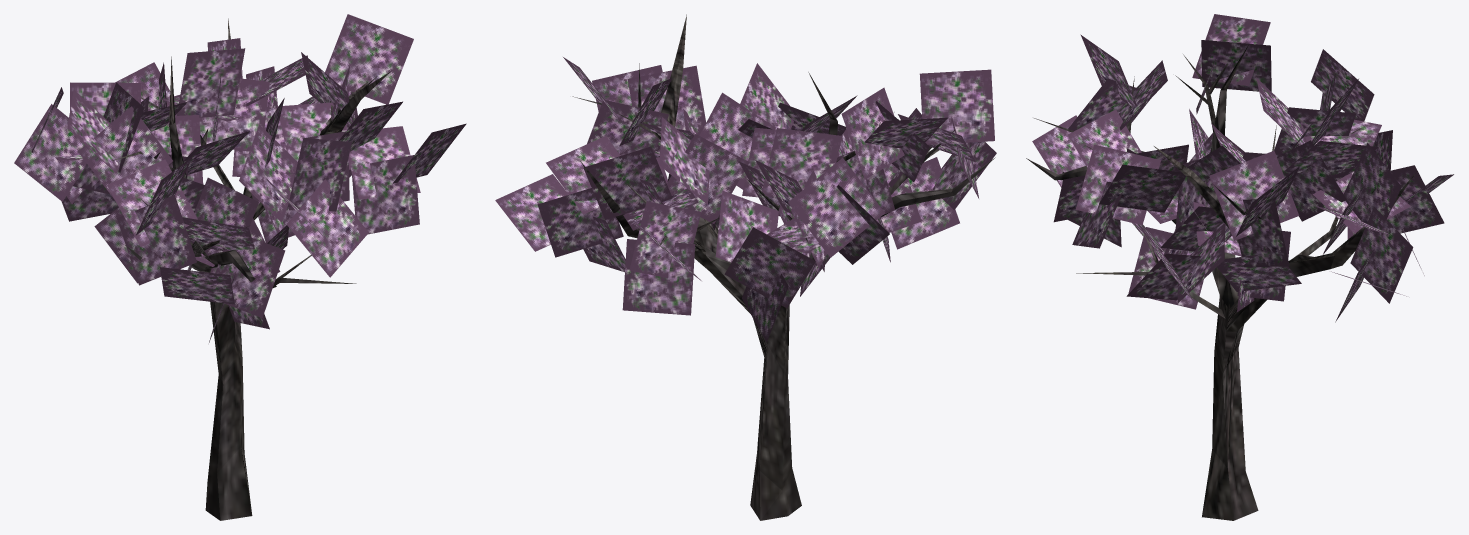
The model's file is stree2.fbx.
3 renders of one model, left to right at view 1: azimuth 30°, elevation 25°; view 2: azimuth 150°, elevation 25°; view 3: azimuth 270°, elevation 25°, orthographic. The views are drawn at different scales.
Visible parts, largest first — view 1: stree2; view 2: stree2; view 3: stree2.
Boxes of the visible parts, x1,y1,x2,y2 form: stree2: [14, 14, 466, 520]; stree2: [495, 14, 996, 520]; stree2: [1026, 14, 1453, 520].
Bounding box in the file's own units: 653 × 755 × 657.
